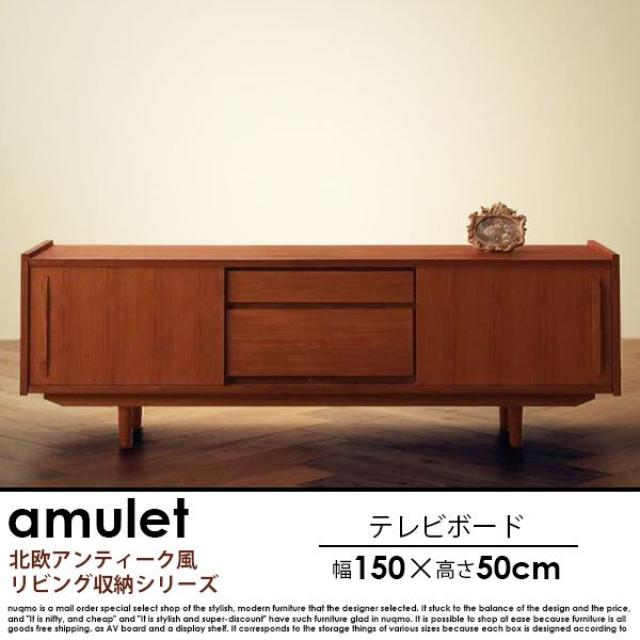vintage shelf: (19, 234, 622, 448)
